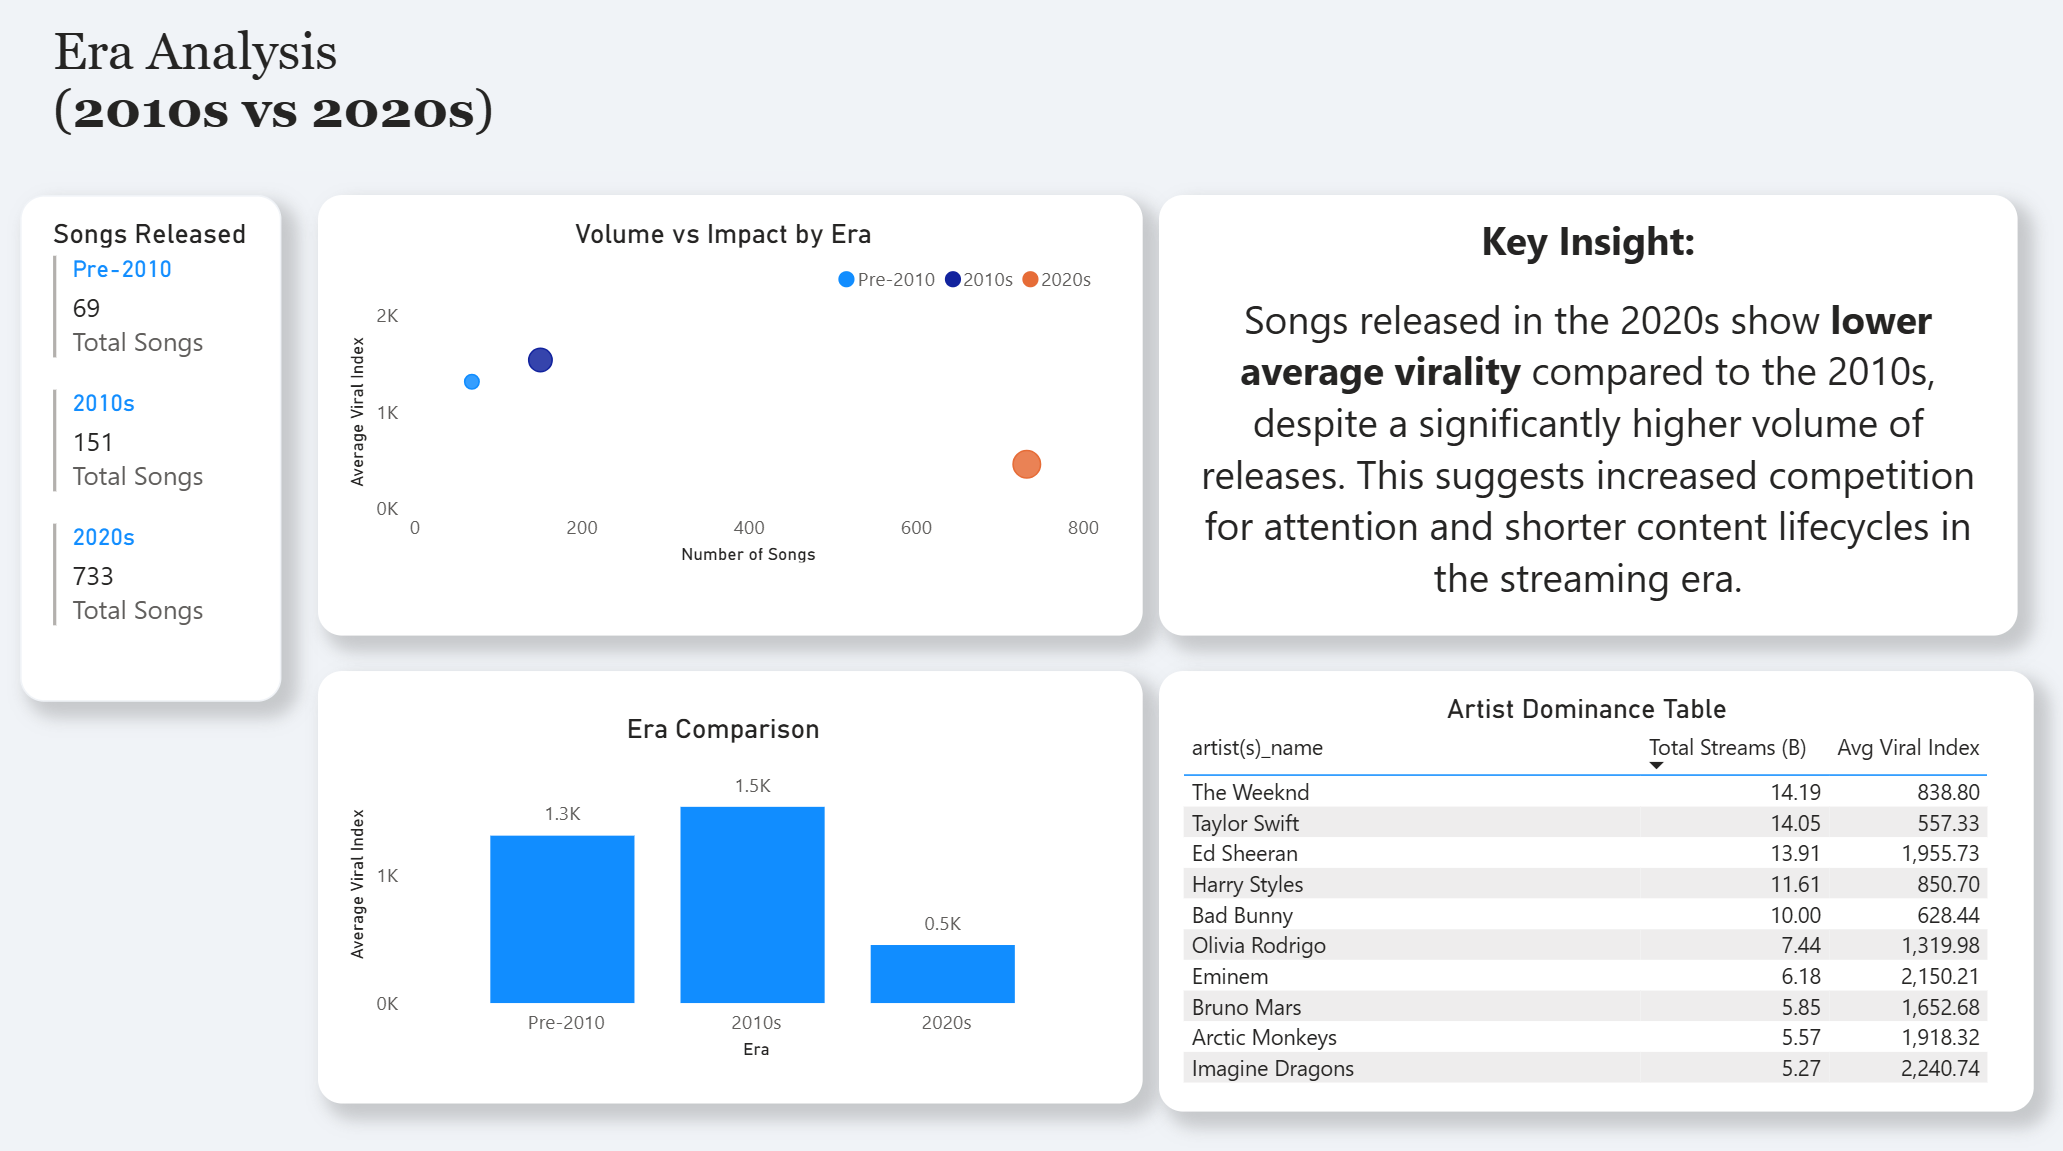

The page's visual inventory and layout, read from the dashboard file:
{"tool":"powerbi","page":{"name":"Era Analysis (2010s vs 2020s)","canvas":[1280,720],"ordinal":1},"visuals":[{"type":"textbox","box":[197,420.7,510.6,268.3],"z":0},{"type":"clusteredColumnChart","title":"Era Comparison","fields":{"Y":["Popular_Spotify_Songs.Avg Viral Index"],"Category":["EraSort.Era"]},"box":[210.7,446.1,475.2,219.3],"z":1000},{"type":"textbox","box":[197,125.8,510.6,273.3],"z":2000},{"type":"scatterChart","title":"Volume vs Impact by Era","fields":{"X":["Popular_Spotify_Songs.track_name"],"Y":["Popular_Spotify_Songs.Avg Viral Index"],"Size":["Popular_Spotify_Songs.Total Streams (B)"],"Series":["EraSort.Era"]},"box":[210.7,139.4,475.2,219.3],"z":3000},{"type":"textbox","box":[718.1,420.7,541.5,272.6],"z":3500},{"type":"tableEx","title":"Artist Dominance Table","fields":{"Values":["Popular_Spotify_Songs.artist(s)_name","Popular_Spotify_Songs.Total Streams (B)","Popular_Spotify_Songs.Avg Viral Index"]},"box":[727.4,433.7,511.8,250.3],"z":4000},{"type":"textbox","box":[718.1,125.8,531.6,273.3],"z":5000},{"type":"textbox","box":[28.1,13.7,479.2,96.7],"z":6000},{"type":"textbox","box":[12.4,125.8,162.3,314.1],"z":7000},{"type":"multiRowCard","title":"Songs Released","fields":{"Values":["Popular_Spotify_Songs.Total Songs","EraSort.Era"]},"box":[28.1,139.1,136.6,288.2],"z":8000}]}

Visuals, with their boxes in screenshot pixels (x1, y1, x2, y2), scaled from the page's 1280x720 canvas onto the 2063x1151 screenshot:
textbox: (x1=318, y1=673, x2=1140, y2=1101)
"Era Comparison" clusteredColumnChart: (x1=340, y1=713, x2=1105, y2=1064)
textbox: (x1=318, y1=201, x2=1140, y2=638)
"Volume vs Impact by Era" scatterChart: (x1=340, y1=223, x2=1105, y2=573)
textbox: (x1=1157, y1=673, x2=2030, y2=1108)
"Artist Dominance Table" tableEx: (x1=1172, y1=693, x2=1997, y2=1093)
textbox: (x1=1157, y1=201, x2=2014, y2=638)
textbox: (x1=45, y1=22, x2=818, y2=176)
textbox: (x1=20, y1=201, x2=282, y2=703)
"Songs Released" multiRowCard: (x1=45, y1=222, x2=265, y2=683)
